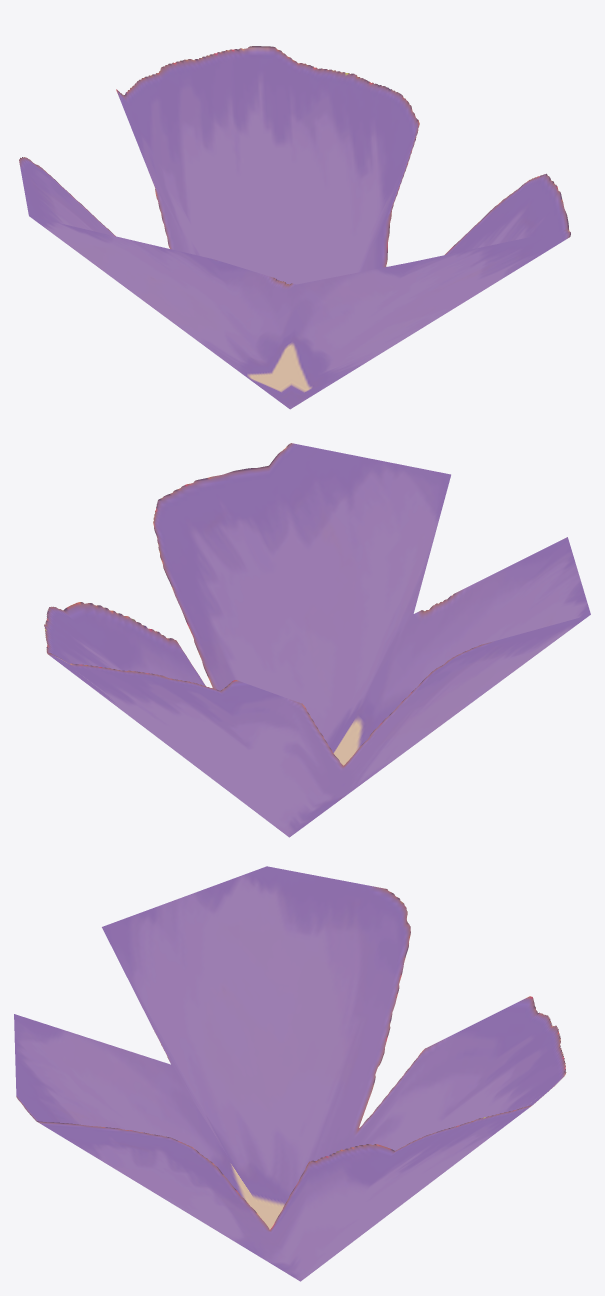
Rendered from petal_1.gltf.
The picture shows the model from 3 angles, top to bottom: view 1: azimuth 30°, elevation 25°; view 2: azimuth 150°, elevation 25°; view 3: azimuth 270°, elevation 25°; orthographic projection. The views are drawn at different scales.
Parts seen in each view (by area): view 1: petal_1; view 2: petal_1; view 3: petal_1.
Part boxes in pixels (x1=…): petal_1: x1=19, y1=46, x2=570, y2=409; petal_1: x1=44, y1=443, x2=590, y2=837; petal_1: x1=14, y1=866, x2=566, y2=1281.
Size of the model in its own units: 0.4602 by 0.2437 by 0.455.
1 material, 1 textured.
